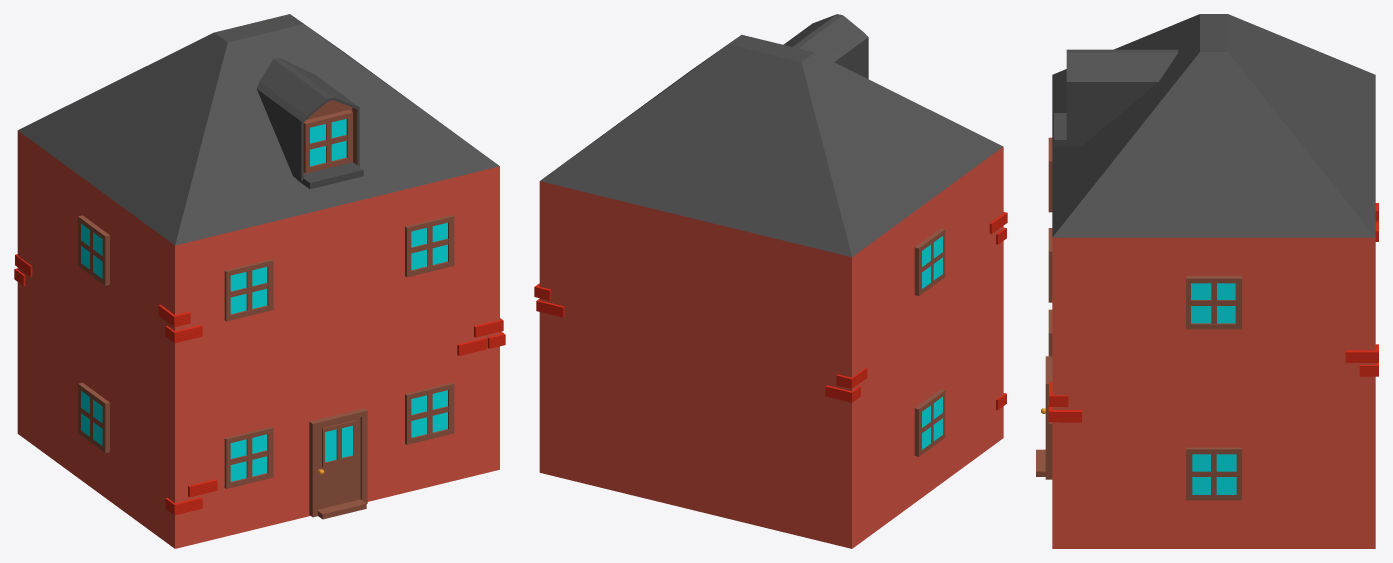
File: Brick House.fbx
3 renders of one model, left to right at view 1: azimuth 30°, elevation 25°; view 2: azimuth 150°, elevation 25°; view 3: azimuth 270°, elevation 25°, orthographic. The views are drawn at different scales.
Visible parts, largest first — view 1: House.001, Attic Window, Door.001, Window 3.003, Window 3.001, Window 3.002, Window 3.004, Window 1.004, Window 1.003; view 2: House.001, Attic Window, Window 1.003, Window 1.004; view 3: House.001, Attic Window, Window 1.001, Window 1.002, Door.001, brick.007, brick.006.
Boxes of the visible parts, x1,y1,x2,y2 form: House.001: [17, 14, 499, 548]; Attic Window: [256, 57, 363, 189]; Door.001: [309, 408, 367, 519]; Window 3.003: [405, 215, 454, 277]; Window 3.001: [224, 426, 273, 488]; Window 3.002: [405, 382, 454, 444]; Window 3.004: [224, 259, 273, 321]; Window 1.004: [78, 382, 109, 453]; Window 1.003: [78, 215, 109, 285]; House.001: [539, 34, 1003, 548]; Attic Window: [783, 14, 868, 78]; Window 1.003: [914, 228, 945, 295]; Window 1.004: [914, 389, 945, 456]; House.001: [1052, 14, 1375, 548]; Attic Window: [1054, 49, 1178, 146]; Window 1.001: [1186, 447, 1241, 500]; Window 1.002: [1186, 276, 1241, 329]; Door.001: [1036, 356, 1052, 479]; brick.007: [1345, 344, 1378, 362]; brick.006: [1048, 404, 1081, 422].
Bounding box in the file's own units: 2391 × 2889 × 2066.
